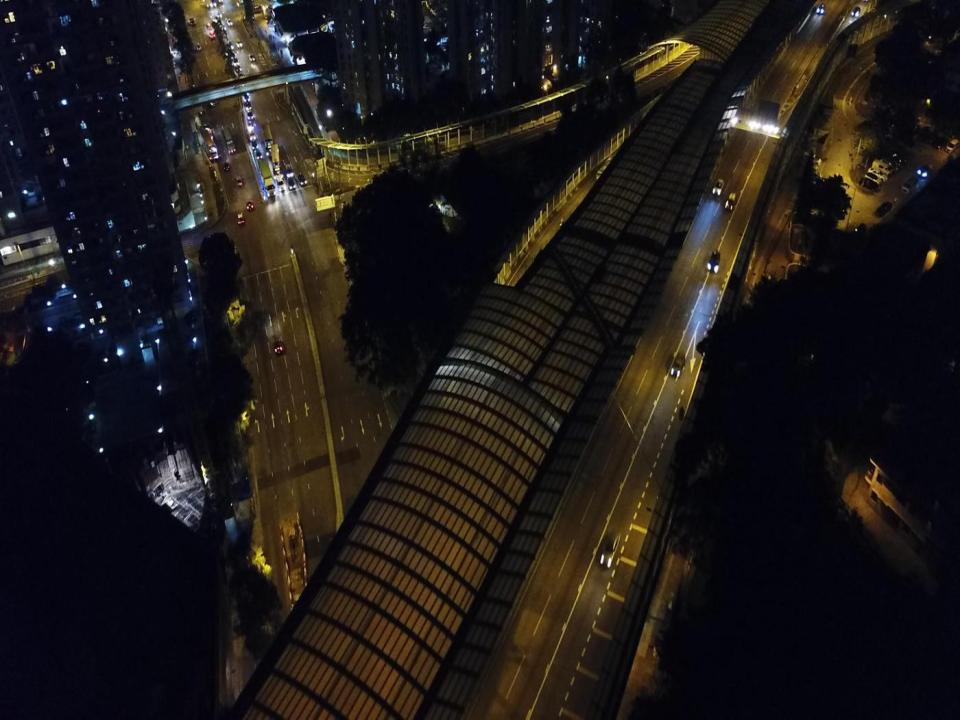bus: (200, 130, 220, 160), (196, 110, 212, 139), (261, 122, 274, 156), (270, 143, 281, 171)
car: (600, 528, 622, 568), (670, 351, 686, 377), (798, 150, 822, 167), (874, 199, 893, 218), (707, 249, 721, 273), (867, 167, 888, 183), (859, 176, 881, 191), (850, 222, 868, 240), (880, 156, 898, 173), (888, 153, 908, 167), (724, 191, 736, 212), (712, 178, 725, 196), (864, 172, 882, 185), (271, 338, 284, 356), (945, 139, 959, 154), (934, 135, 948, 149), (927, 129, 940, 144), (286, 175, 296, 191), (208, 91, 217, 107), (236, 211, 246, 225), (919, 164, 930, 176), (850, 5, 861, 17), (815, 2, 825, 15), (297, 173, 307, 186), (253, 148, 262, 160), (244, 100, 253, 112), (250, 138, 258, 151), (245, 200, 254, 211), (248, 130, 256, 142), (241, 92, 250, 102), (283, 168, 294, 176), (246, 108, 253, 120), (235, 176, 243, 186), (246, 120, 254, 130), (236, 38, 244, 48), (208, 30, 216, 39), (223, 161, 230, 171), (189, 16, 196, 26), (248, 54, 256, 62), (226, 17, 233, 26), (196, 42, 202, 50), (206, 21, 212, 29)
truck: (257, 160, 276, 196), (221, 127, 236, 154)
van: (871, 158, 893, 177), (901, 174, 919, 194), (275, 174, 286, 191)
